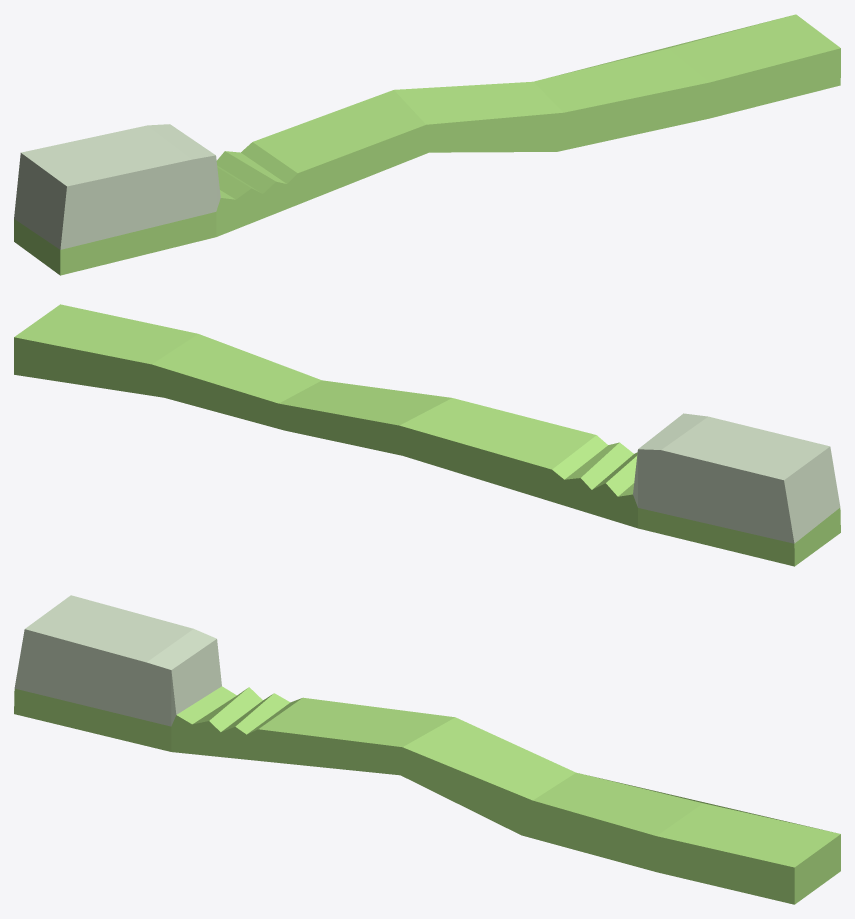
File: brush.gltf
3 renders of one model, top to bottom at view 1: azimuth 30°, elevation 25°; view 2: azimuth 150°, elevation 25°; view 3: azimuth 330°, elevation 25°, orthographic.
Parts seen in each view (by area): view 1: Cube001, Cube001_1; view 2: Cube001, Cube001_1; view 3: Cube001, Cube001_1.
Part boxes in pixels (x1,y1,x2,y2): Cube001: [14, 14, 840, 275]; Cube001_1: [14, 124, 220, 249]; Cube001: [14, 304, 840, 566]; Cube001_1: [633, 413, 840, 543]; Cube001: [14, 686, 840, 904]; Cube001_1: [14, 595, 221, 726].
Size of the model in its own units: 2.81 by 0.3024 by 0.3589.
